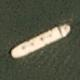ship: (7, 0, 74, 62)
